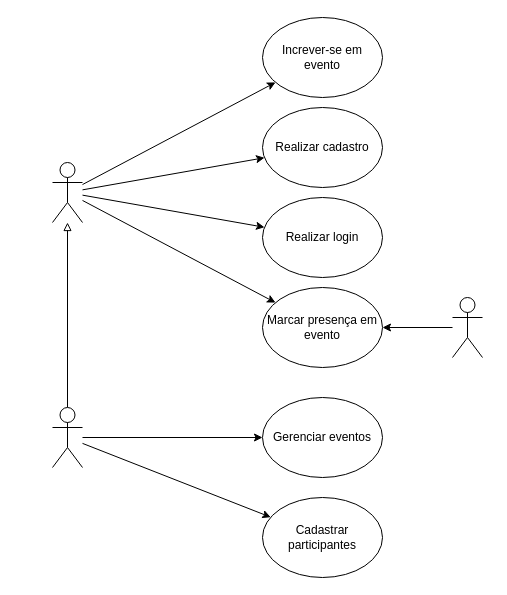
Some shapes in this 507 by 595 pixel diagram are drawn without their labels. The shapes that lost their labels are listed below. From the top down, each one's centre as x and y in pixels, then its label:
[67,192]: Usuário comum
[467,327]: Visitante
[67,437]: Membro de equipe
